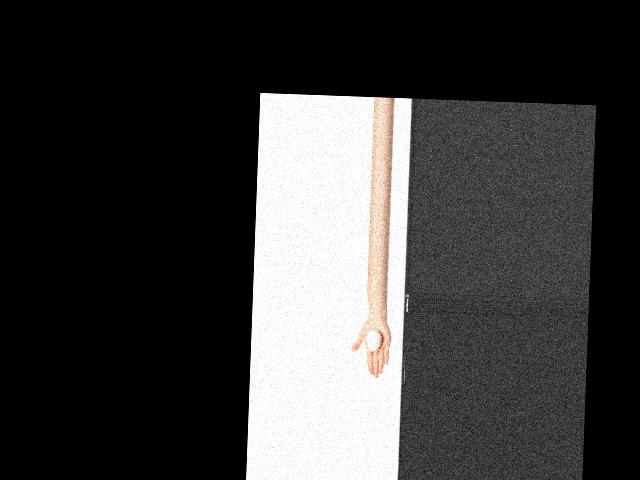egg: (366, 329, 381, 351)
